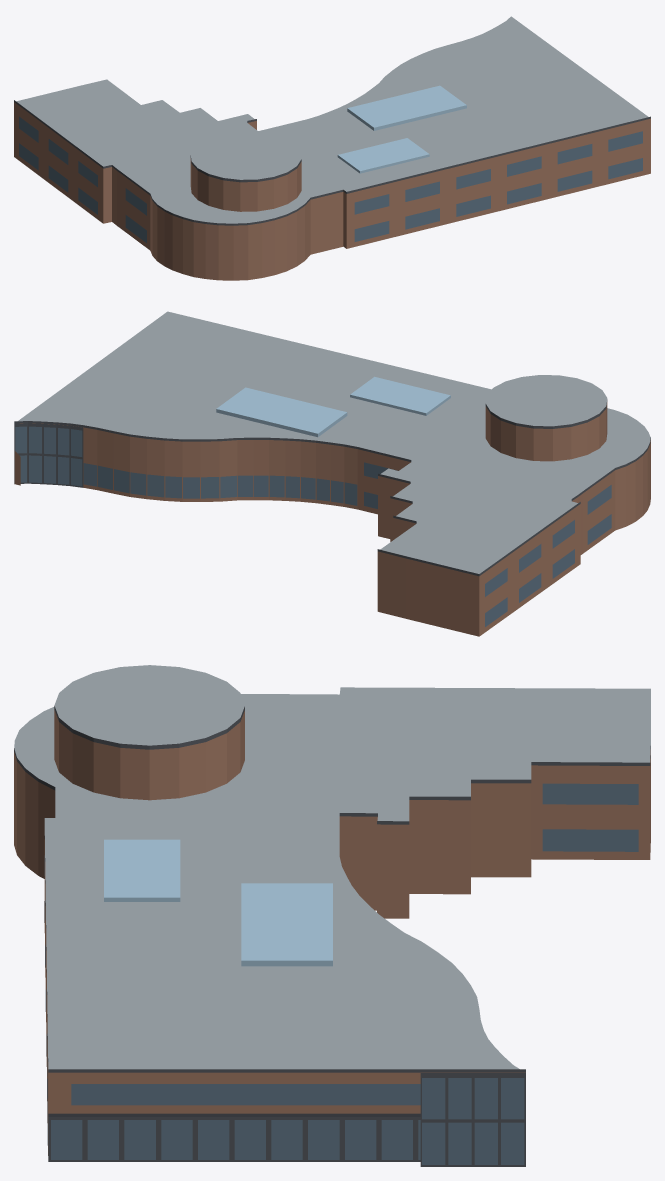
File: clt-discovery-place.glb
3 views of the same model, one above another, from view 1: azimuth 30°, elevation 25°; view 2: azimuth 150°, elevation 25°; view 3: azimuth 270°, elevation 25° (orthographic). The views are drawn at different scales.
Parts seen in each view (by area): view 1: Discovery Place Science; view 2: Discovery Place Science; view 3: Discovery Place Science.
Part boxes in pixels (x1=…): Discovery Place Science: x1=14, y1=16, x2=650, y2=280; Discovery Place Science: x1=14, y1=311, x2=650, y2=636; Discovery Place Science: x1=14, y1=665, x2=650, y2=1166.
Size of the model in its own units: 120 by 21.5 by 83.5.
